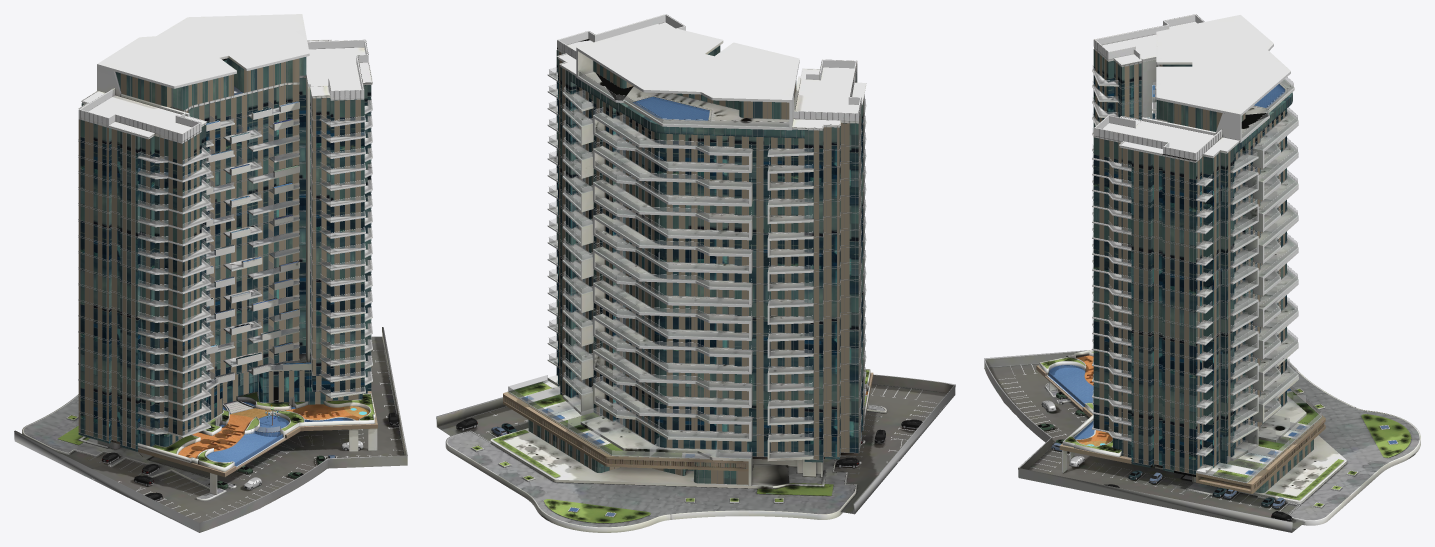
Rendered from build.glb.
The picture shows the model from 3 angles, left to right: view 1: azimuth 30°, elevation 25°; view 2: azimuth 150°, elevation 25°; view 3: azimuth 270°, elevation 25°; orthographic projection. The views are drawn at different scales.
Parts seen in each view (by area): view 1: Auria_Gardens_build; view 2: Auria_Gardens_build; view 3: Auria_Gardens_build.
Part boxes in pixels (left/top/right/bottom): Auria_Gardens_build: left=14, top=14, right=407, bottom=532; Auria_Gardens_build: left=436, top=14, right=955, bottom=532; Auria_Gardens_build: left=984, top=14, right=1420, bottom=532.
Bounding box in the file's own units: 101 × 94.67 × 99.72.
17 materials, 11 textured.
